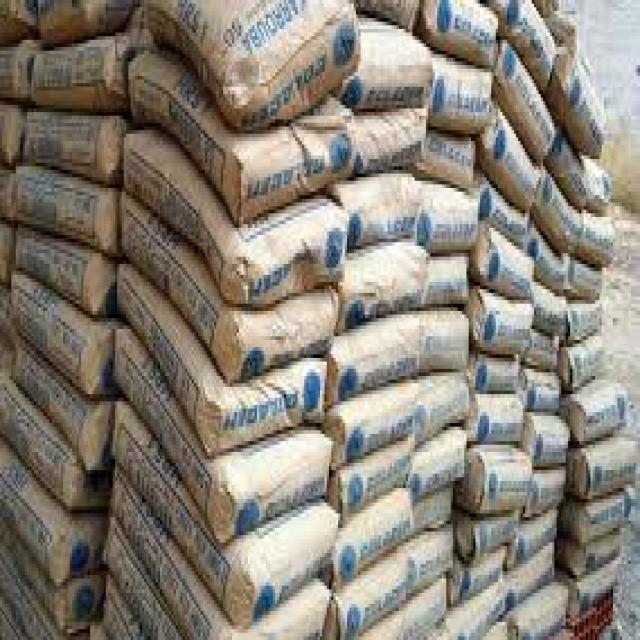cement_bag: (108, 415, 340, 634), (113, 329, 332, 548), (121, 201, 334, 386), (124, 136, 346, 306), (115, 272, 325, 451), (134, 57, 354, 224), (158, 0, 354, 126), (117, 484, 226, 640), (15, 348, 100, 468), (10, 281, 100, 393), (0, 389, 77, 504), (19, 227, 102, 329), (337, 310, 422, 401), (336, 432, 416, 527), (343, 484, 416, 587), (18, 172, 108, 251), (497, 41, 556, 160), (0, 461, 59, 580), (339, 546, 414, 639), (335, 387, 421, 468), (556, 41, 607, 160), (23, 112, 118, 174), (353, 246, 432, 320), (486, 115, 539, 214), (349, 174, 416, 248), (361, 103, 426, 179), (357, 52, 431, 112), (434, 2, 498, 67), (437, 62, 494, 133), (475, 456, 534, 523), (38, 45, 104, 103), (540, 170, 581, 253), (420, 432, 467, 504), (586, 432, 636, 499), (486, 231, 539, 294), (514, 582, 569, 640), (484, 300, 537, 360), (409, 527, 456, 589), (425, 198, 480, 250), (575, 389, 630, 441), (464, 542, 508, 606), (425, 315, 470, 372), (478, 396, 524, 449), (516, 508, 558, 566), (567, 293, 605, 344), (480, 353, 523, 394), (563, 265, 605, 306), (530, 418, 568, 463)
